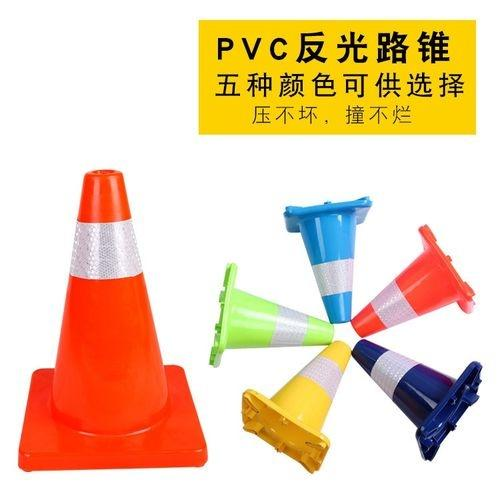cone_barrel: (35, 166, 178, 447), (350, 339, 482, 460), (355, 224, 476, 348), (243, 340, 347, 470), (210, 264, 333, 365), (282, 196, 366, 328)
